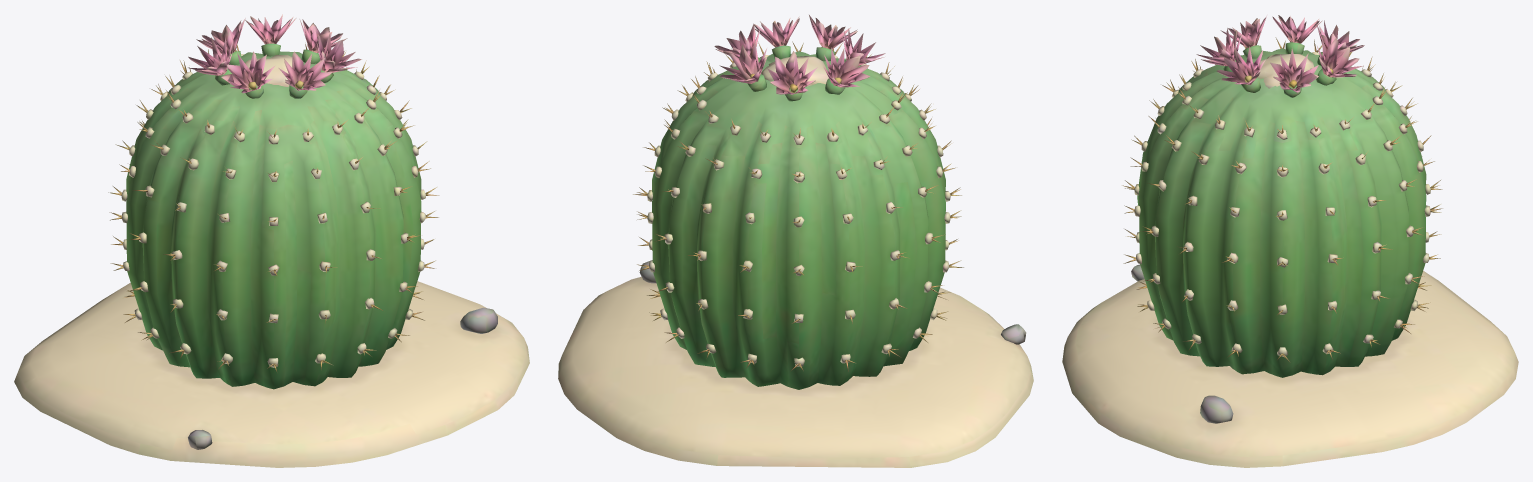
The model's file is barrel-cactus.glb.
The picture shows the model from 3 angles, left to right: view 1: azimuth 30°, elevation 25°; view 2: azimuth 150°, elevation 25°; view 3: azimuth 270°, elevation 25°; orthographic projection. The views are drawn at different scales.
Visible parts, largest first — view 1: barrel-cactus_body; view 2: barrel-cactus_body; view 3: barrel-cactus_body.
Part boxes in pixels (x1,y1,x2,y2): barrel-cactus_body: (14,14,529,467); barrel-cactus_body: (558,15,1033,467); barrel-cactus_body: (1062,15,1518,467).
Size of the model in its own units: 0.6084 by 0.4502 by 0.5632.
1 material, 1 textured.
